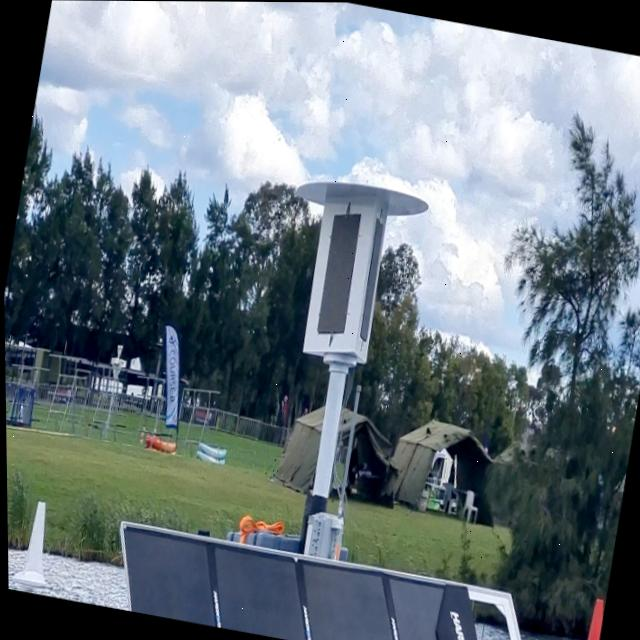led: (302, 198, 373, 353)
